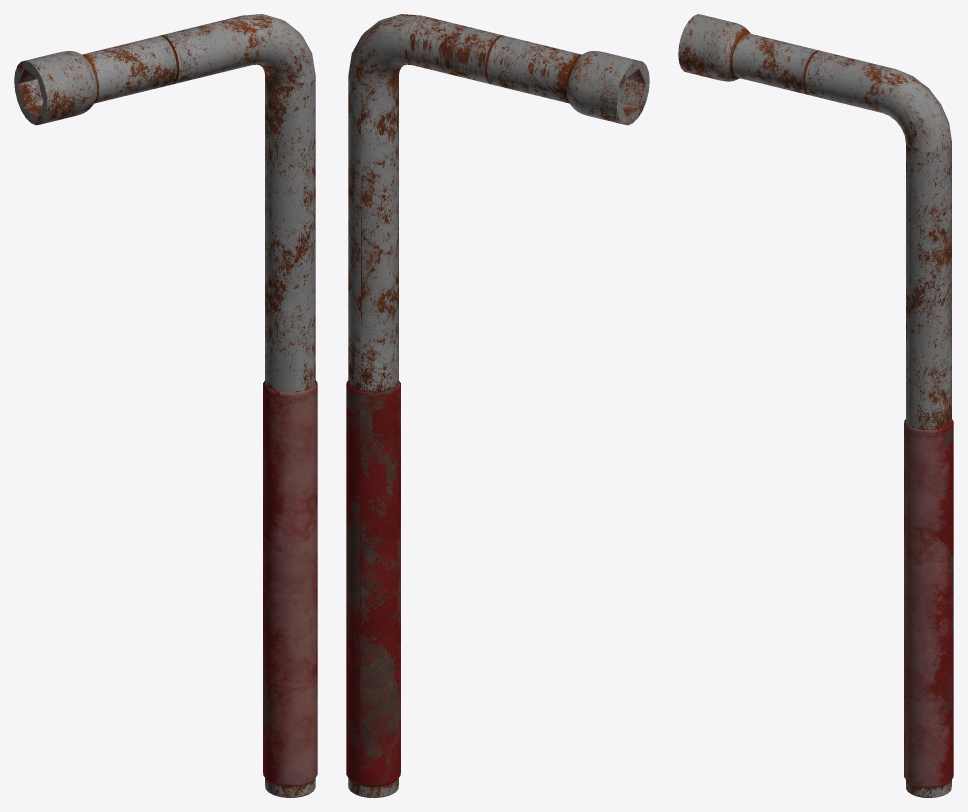
File: rusted rod.fbx
3 views of the same model, side by side, from view 1: azimuth 30°, elevation 25°; view 2: azimuth 150°, elevation 25°; view 3: azimuth 330°, elevation 25° (orthographic). The views are drawn at different scales.
Parts seen in each view (by area): view 1: defaultMaterial; view 2: defaultMaterial; view 3: defaultMaterial.
Boxes of the visible parts, box(x1,y1,x2,y2) form: defaultMaterial: box(14, 14, 317, 797); defaultMaterial: box(346, 14, 649, 797); defaultMaterial: box(678, 14, 953, 797).
Bounding box in the file's own units: 46.15 × 123 × 9.35.
